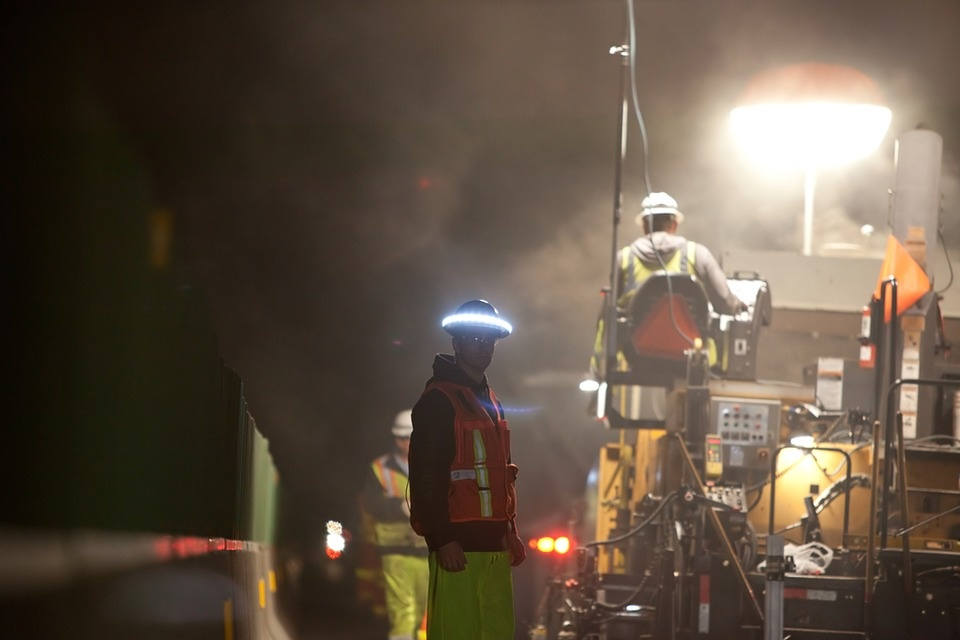blue: (448, 299, 501, 372)
white: (638, 192, 679, 236)
